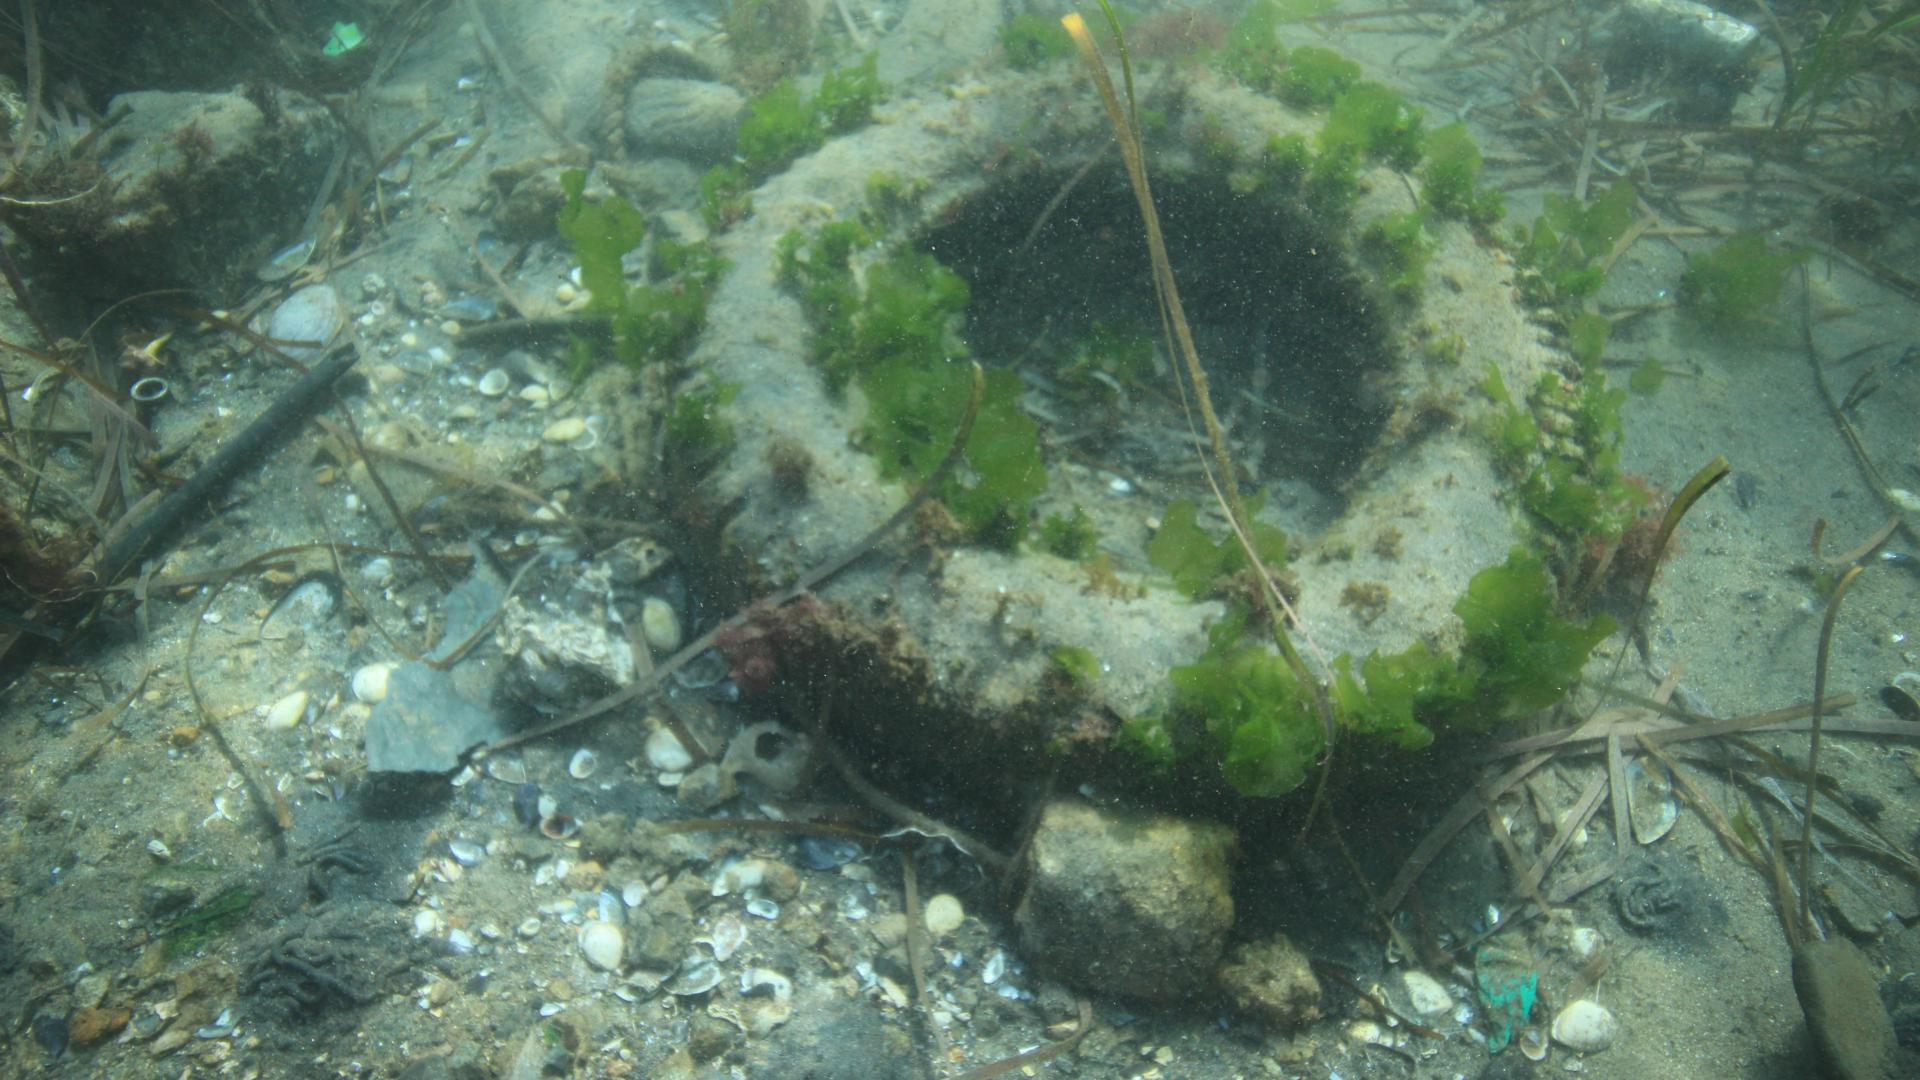rope: (595, 22, 690, 173)
tire: (669, 54, 1602, 872)
